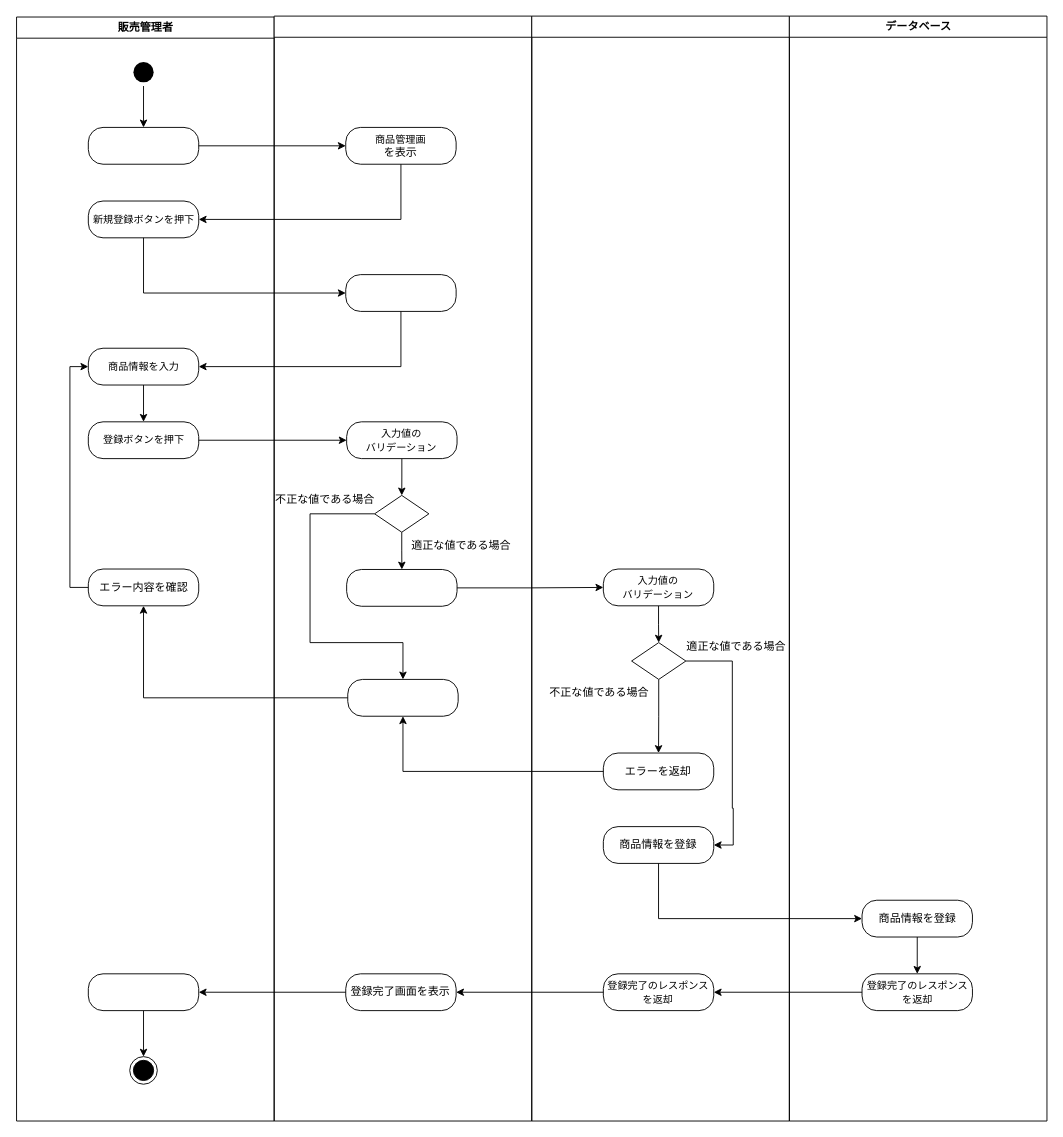
This 1063x1137 diagram has some shape labels left out. Here are the shapes that lost their labels. From the top down, the box of each, then its label:
(87, 126, 199, 164): 商品管理画面に アクセス
(345, 274, 456, 311): 商品の新規登録画面 を表示
(346, 569, 457, 606): 商品情報登録 APIリクエストを送信
(273, 15, 532, 1121): ECサイト画面
(531, 15, 789, 1121): APIサーバー
(347, 678, 458, 716): エラー内容を表示
(87, 973, 199, 1011): 登録が完了したことを確認
